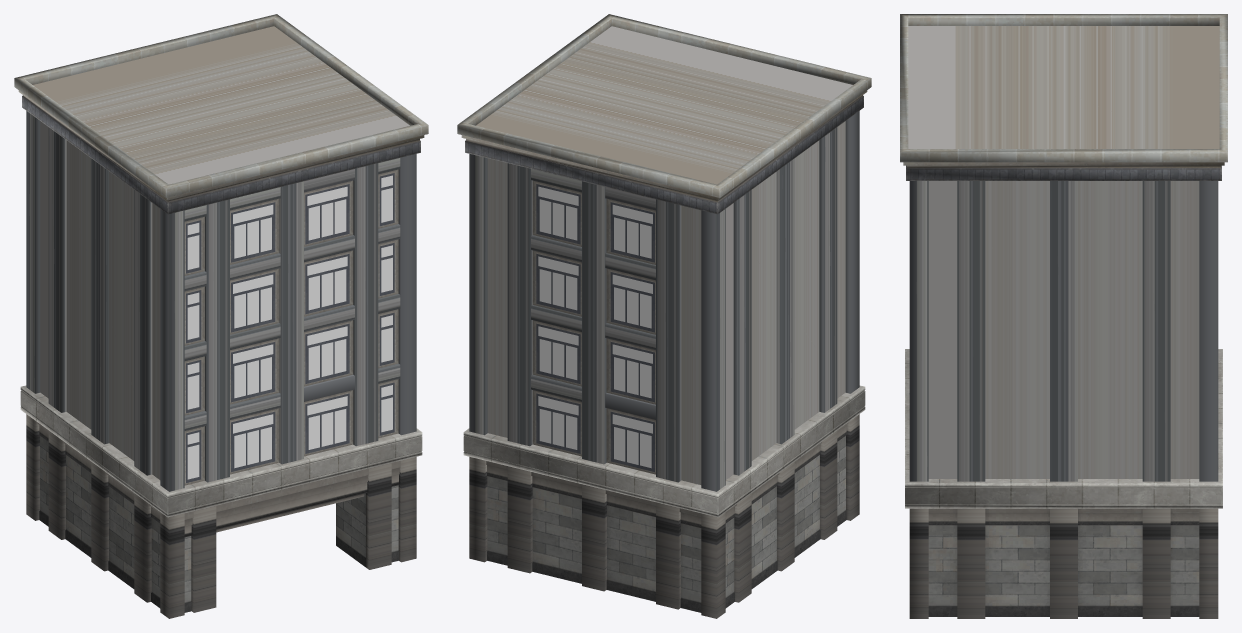
Rendered from objects_un_t06building01_shop.gltf.
The picture shows the model from 3 angles, left to right: view 1: azimuth 30°, elevation 25°; view 2: azimuth 150°, elevation 25°; view 3: azimuth 270°, elevation 25°; orthographic projection. The views are drawn at different scales.
Parts seen in each view (by area): view 1: nomerge_t06building01_shop_shape:objects_un_t06building01_01, nomerge_t06building01_shop_shape:objects_un_t06building01_02, nomerge_t06building01_shop_shape:objects_un_behind, um_objects_un_t06building01_shop_model_lod0Shape:objects_un_; view 2: nomerge_t06building01_shop_shape:objects_un_t06building01_01, nomerge_t06building01_shop_shape:objects_un_t06building01_02, nomerge_t06building01_shop_shape:objects_un_behind, um_objects_un_t06building01_shop_model_lod0Shape:objects_un_; view 3: nomerge_t06building01_shop_shape:objects_un_t06building01_01, nomerge_t06building01_shop_shape:objects_un_t06building01_02.
Boxes of the visible parts, bbox=[...] form: nomerge_t06building01_shop_shape:objects_un_t06building01_01: bbox=[14, 14, 428, 618]; nomerge_t06building01_shop_shape:objects_un_t06building01_02: bbox=[33, 26, 409, 479]; nomerge_t06building01_shop_shape:objects_un_behind: bbox=[187, 175, 392, 479]; um_objects_un_t06building01_shop_model_lod0Shape:objects_un_: bbox=[186, 173, 394, 482]; nomerge_t06building01_shop_shape:objects_un_t06building01_01: bbox=[457, 14, 871, 618]; nomerge_t06building01_shop_shape:objects_un_t06building01_02: bbox=[476, 26, 852, 484]; nomerge_t06building01_shop_shape:objects_un_behind: bbox=[538, 186, 652, 468]; um_objects_un_t06building01_shop_model_lod0Shape:objects_un_: bbox=[536, 184, 654, 471]; nomerge_t06building01_shop_shape:objects_un_t06building01_01: bbox=[900, 14, 1227, 618]; nomerge_t06building01_shop_shape:objects_un_t06building01_02: bbox=[908, 26, 1219, 478].
Size of what is drawn, in the model's own units: 12 by 19 by 12.
Materials: 4 (3 with a texture image).
